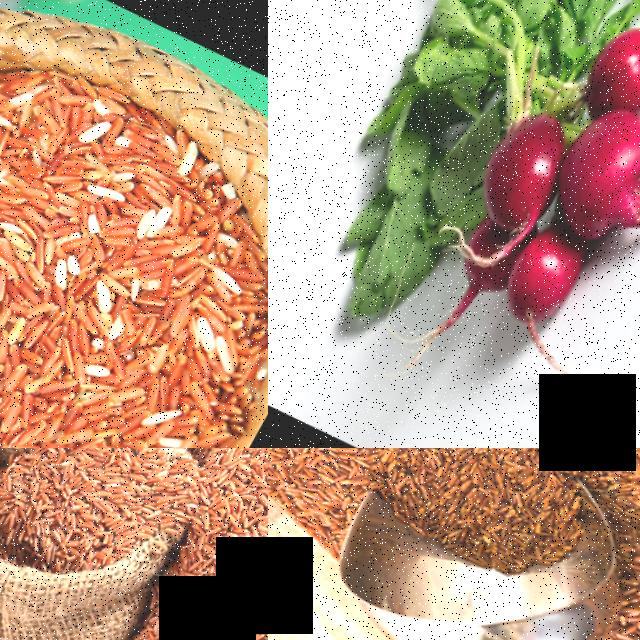red rice: (0, 0, 268, 448), (110, 448, 268, 640), (371, 448, 593, 582), (0, 448, 195, 589), (268, 448, 419, 525)
spinach: (330, 0, 640, 367)
